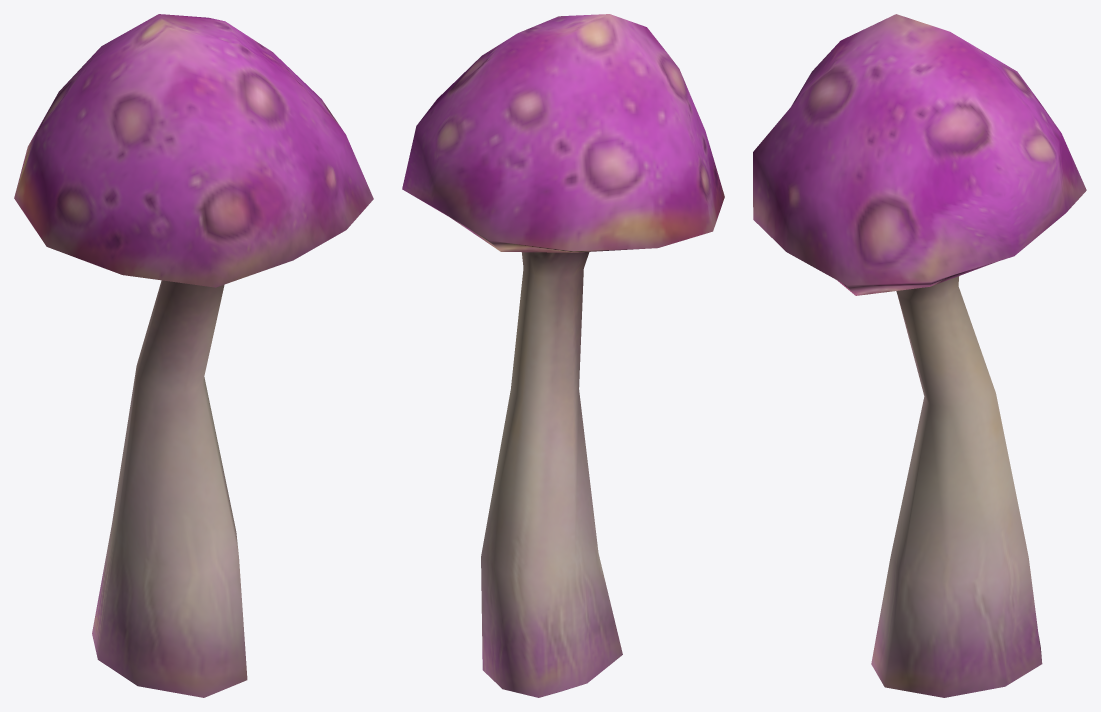
Rendered from SM_Mushroom_C.fbx.
3 renders of one model, left to right at view 1: azimuth 30°, elevation 25°; view 2: azimuth 150°, elevation 25°; view 3: azimuth 270°, elevation 25°, orthographic. The views are drawn at different scales.
Visible parts, largest first — view 1: SM_Mushroom_C_LOD0; view 2: SM_Mushroom_C_LOD0; view 3: SM_Mushroom_C_LOD0.
Boxes of the visible parts, x1=… form: SM_Mushroom_C_LOD0: x1=14, y1=14, x2=373, y2=697; SM_Mushroom_C_LOD0: x1=402, y1=14, x2=724, y2=697; SM_Mushroom_C_LOD0: x1=753, y1=14, x2=1086, y2=697.
Size of the model in its own units: 9.97 by 9.8 by 21.13.
1 material, 1 textured.
